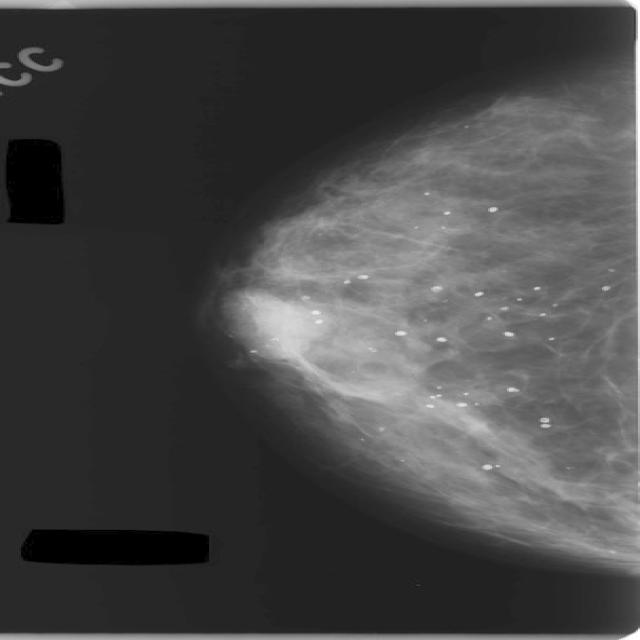tumour: (226, 288, 327, 359)
